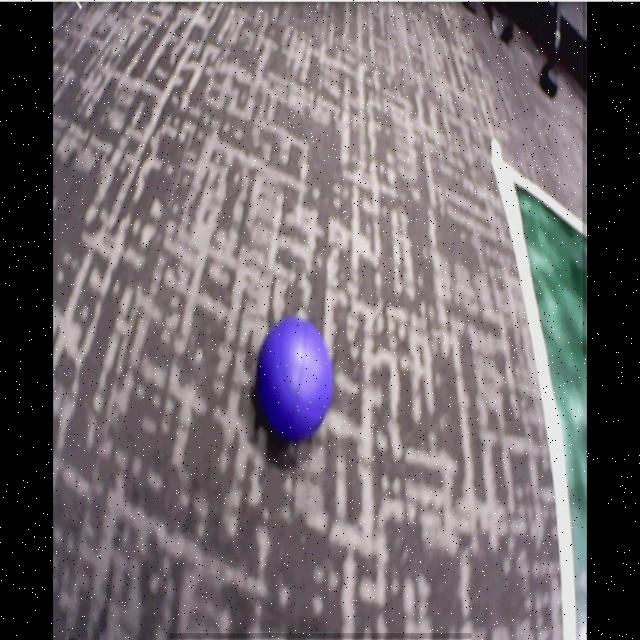ball: (258, 320, 335, 444)
